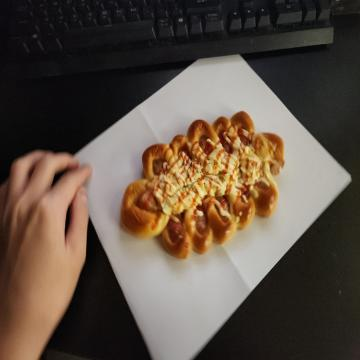pizza_bread: (118, 114, 284, 254)
